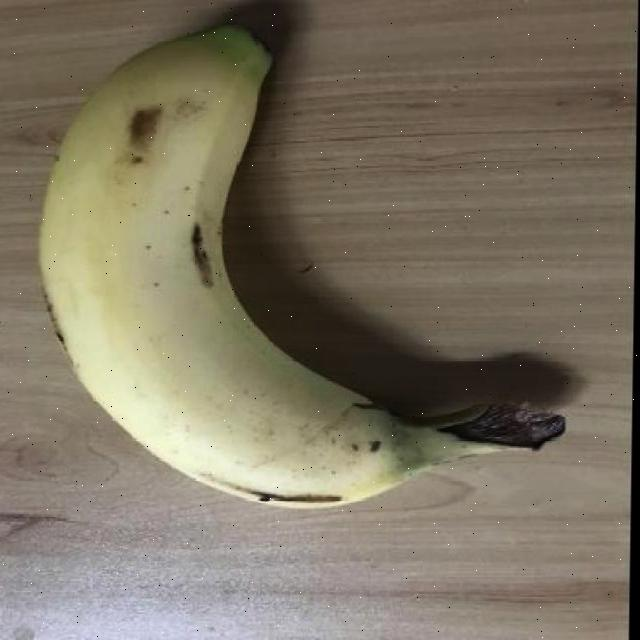banana: (32, 30, 575, 508)
